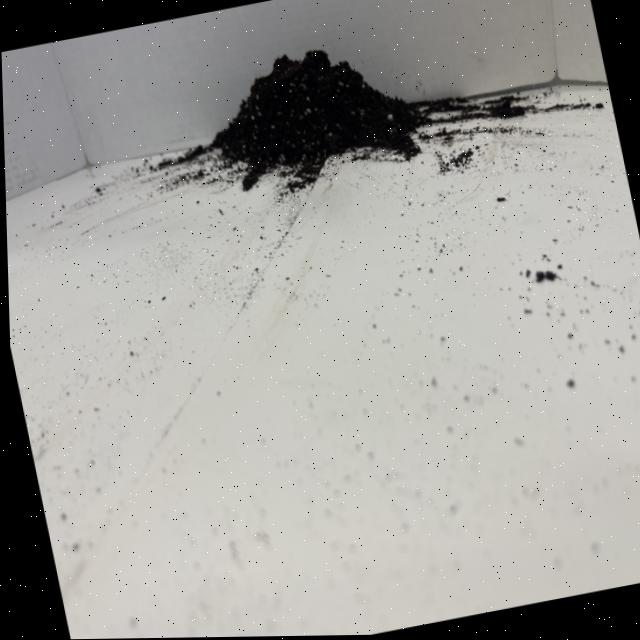soil: (192, 26, 432, 204)
